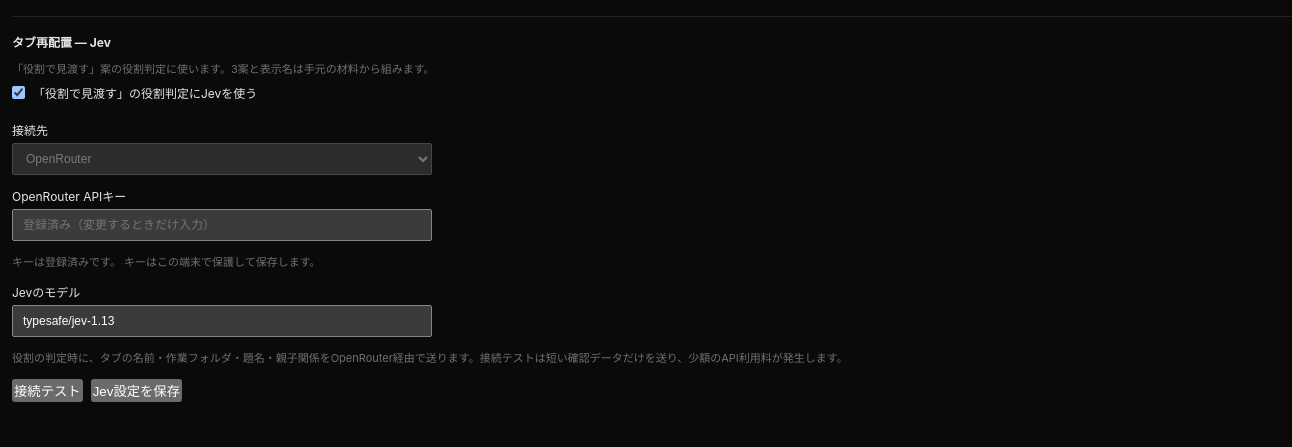
Test case: Jev settings › shows a useful authentication failure and keeps the form available
Click the button "接続テスト": (47, 391) top-left (12, 379), bottom-right (83, 402)
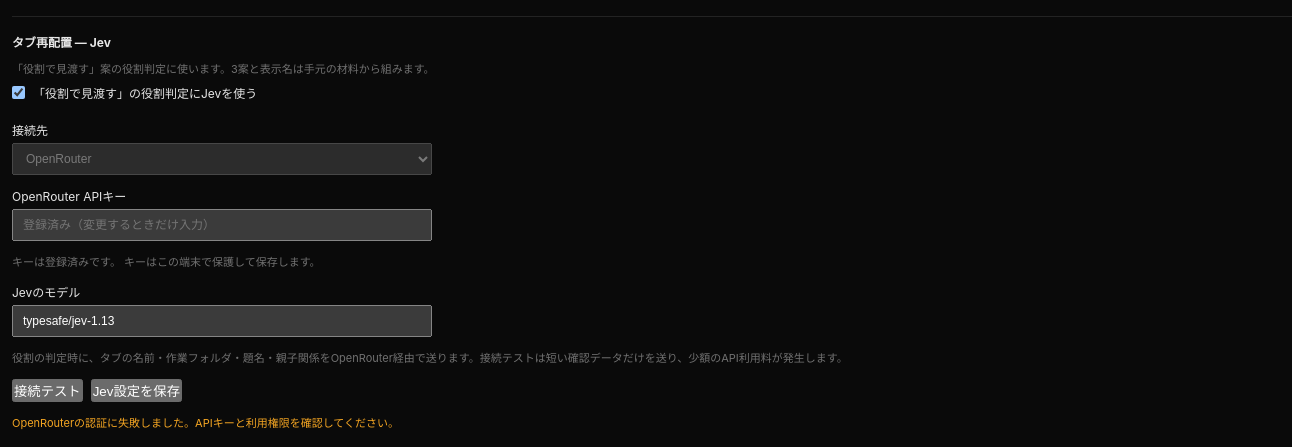
Result: the message "OpenRouterの認証に失敗しました。APIキーと利用権限を確認してください。" is shown at top-left (12, 416), bottom-right (399, 430)
